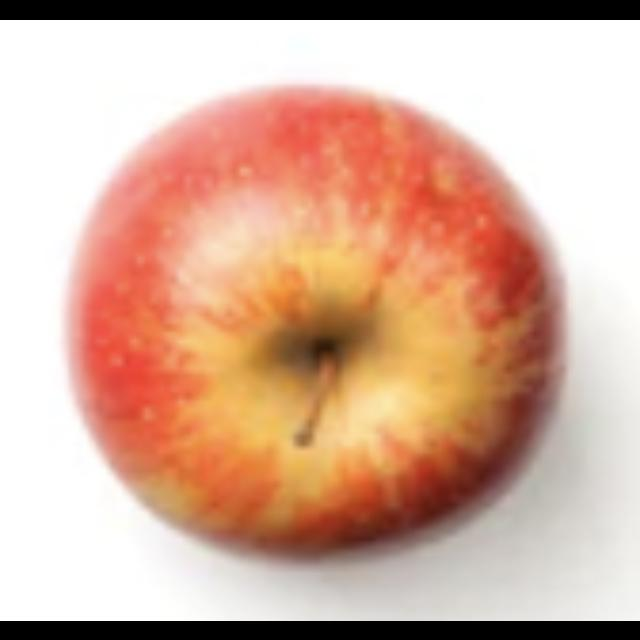Apel Segar: (57, 86, 579, 550)
